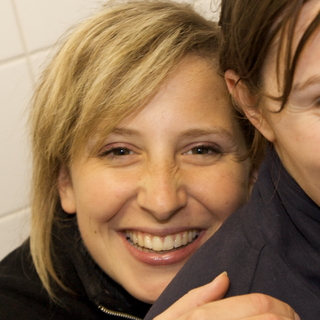eye: (172, 133, 232, 169), (93, 138, 144, 166)
